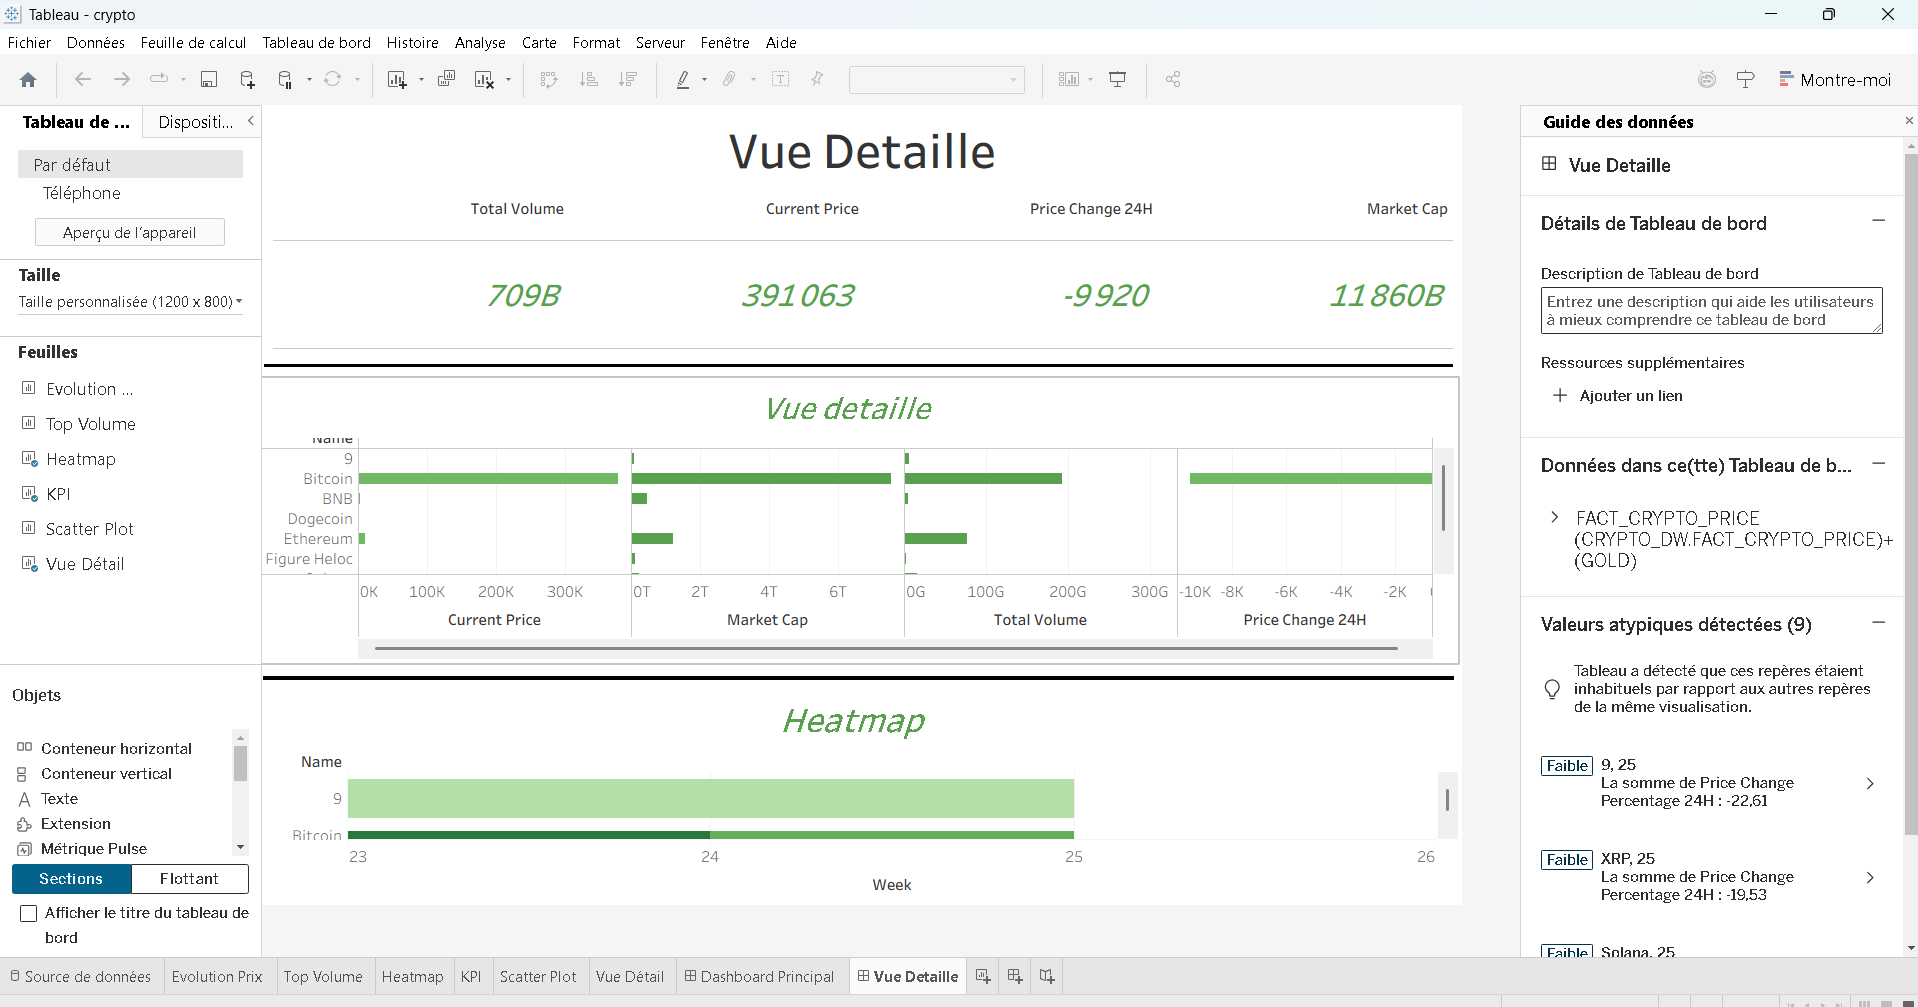

Layout of this report page (visuals, bound fields, positions):
{"tool":"tableau","page":{"name":"Vue Detaille","canvas":[1200,800],"ordinal":1},"visuals":[{"type":"title","box":[8,8,1184,73]},{"type":"worksheet","title":"KPI","mark":"Automatic","box":[7,67,1188,181]},{"type":"legend","title":"Heatmap","param":"[federated.0wfhz8h1sas3mg12ob19o0xehkbn].[sum:PRICE_CHANGE_PERCENTAGE_24H:qk]","box":[8,81,1184,711]},{"type":"worksheet","title":"Heatmap","mark":"Bar","rows":["NAME"],"cols":["WEEK"],"box":[1,583,1199,218]}]}

Visuals, with their boxes on the page's 1200x800 design canvas (x1, y1, x2, y2). These are canvas units, not pixel positions in the 1918x1007 screenshot, which may show the page scaled, cropped or inside an application window:
title: crop(8, 8, 1192, 81)
"KPI" worksheet: crop(7, 67, 1195, 248)
"Heatmap" legend: crop(8, 81, 1192, 792)
"Heatmap" worksheet (Bar marks): crop(1, 583, 1200, 801)
